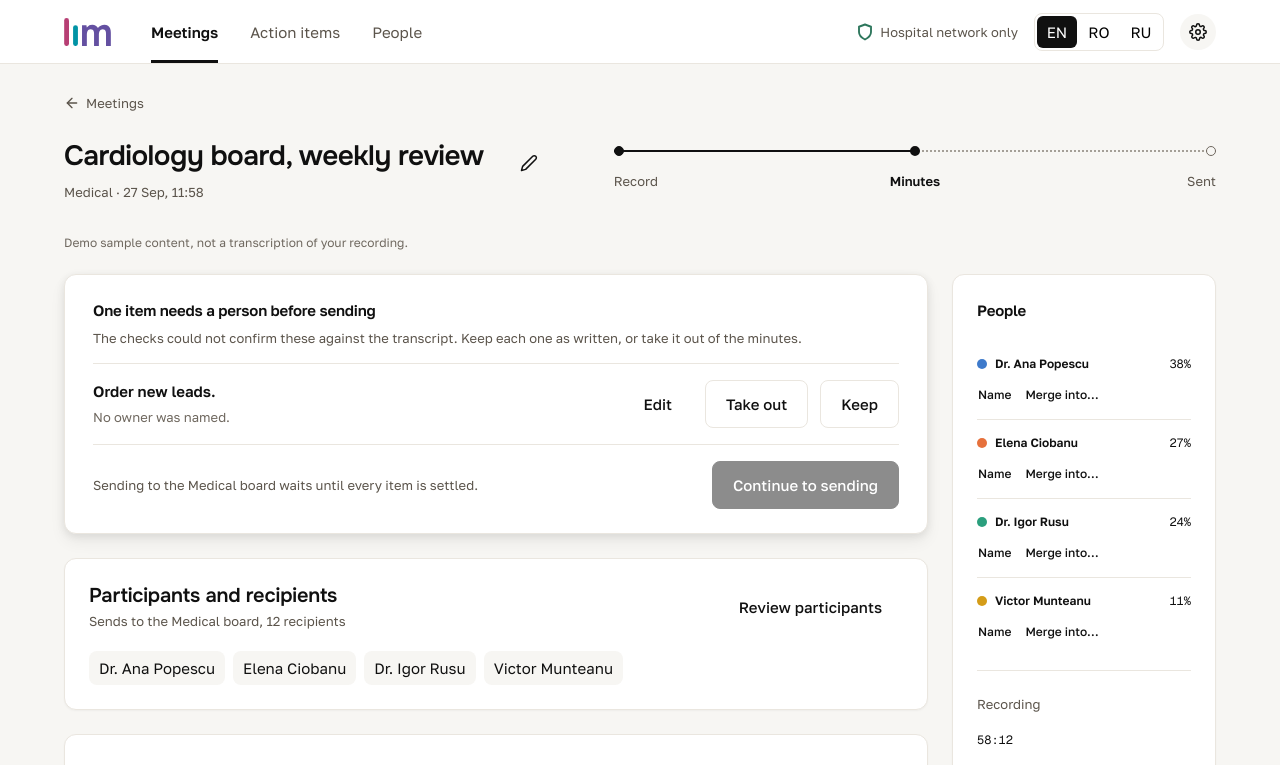
the send window after settling flagged items › opens the window instead of sending at once, and stopping it leaves Send now
This screenshot has width=1280, height=765.
Step 1. Click the button with aria-label "Keep: Order new leads." → (860, 404), box [820,380,899,428]
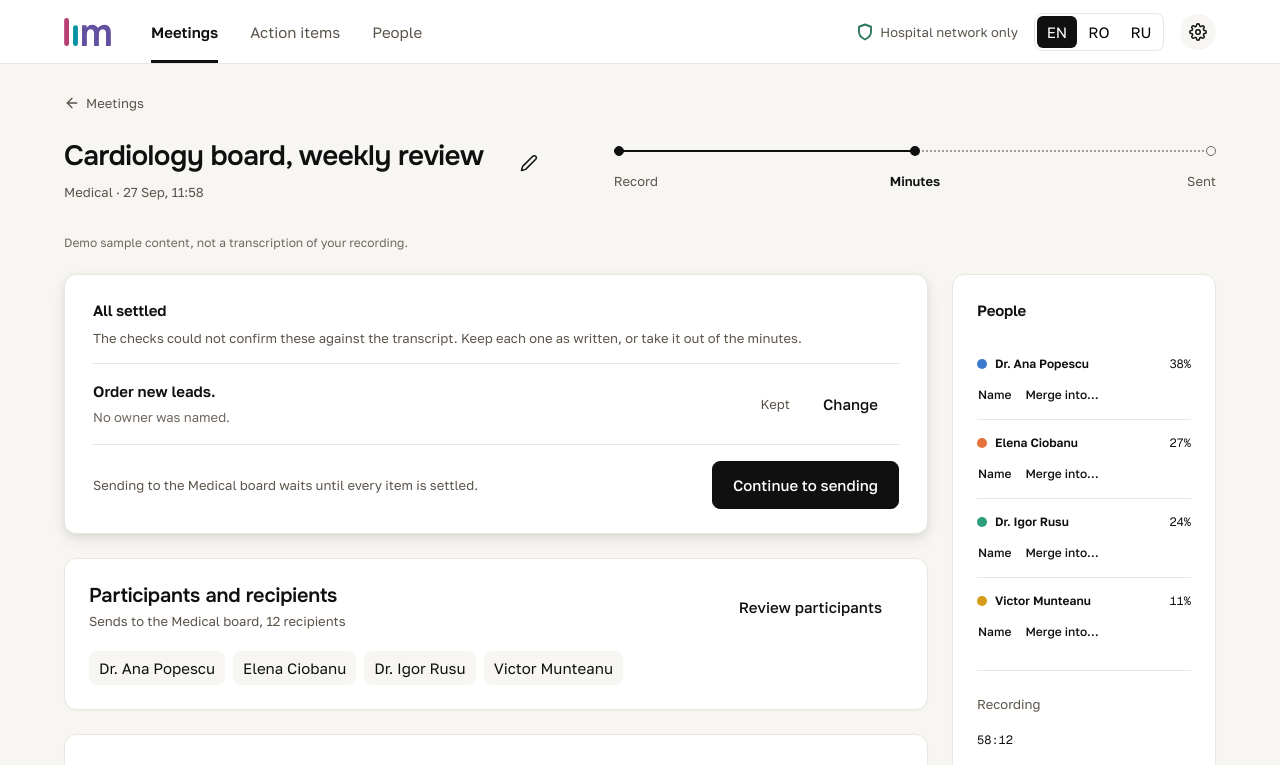
Step 2. Click the button "Continue to sending" → (805, 485), box [712,461,899,509]
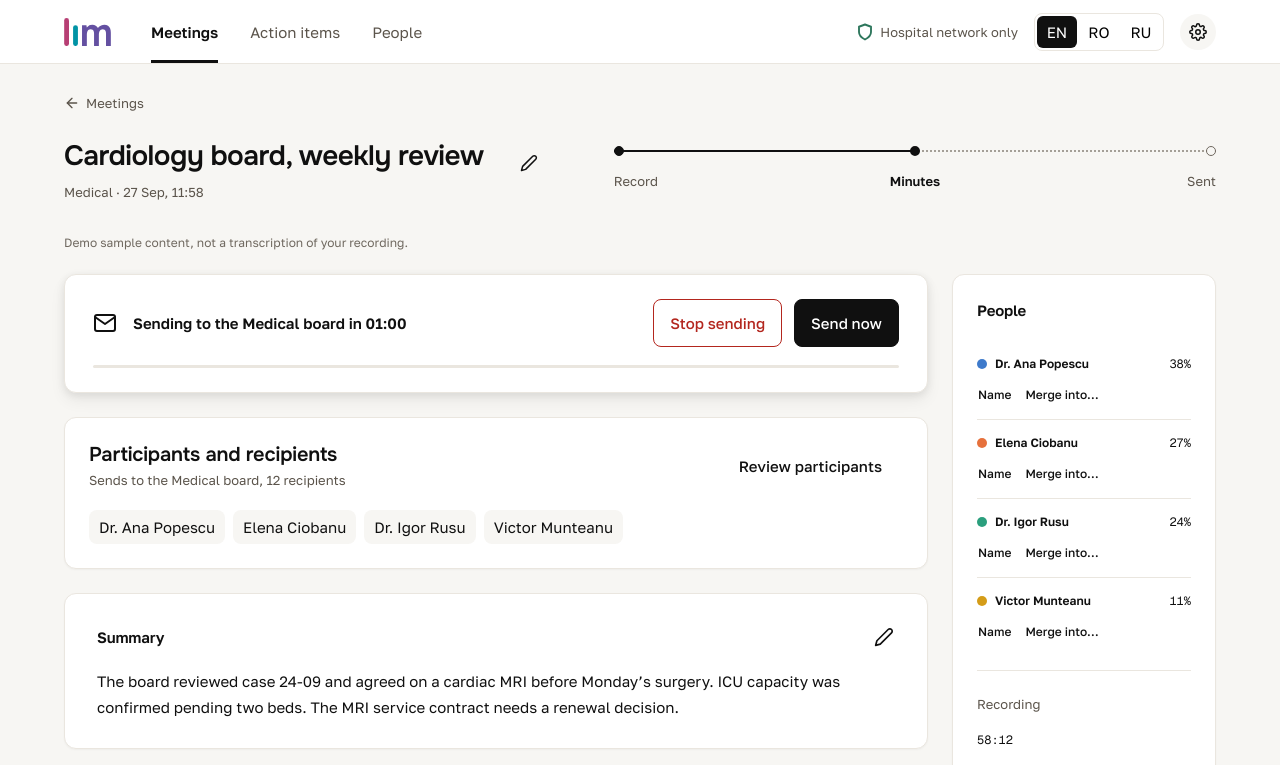
Now the text "Sending to the Medical board in 01:00" is shown, box [133,314,406,332]
Step 3. Click the button "Stop sending" → (718, 323), box [653,299,782,347]
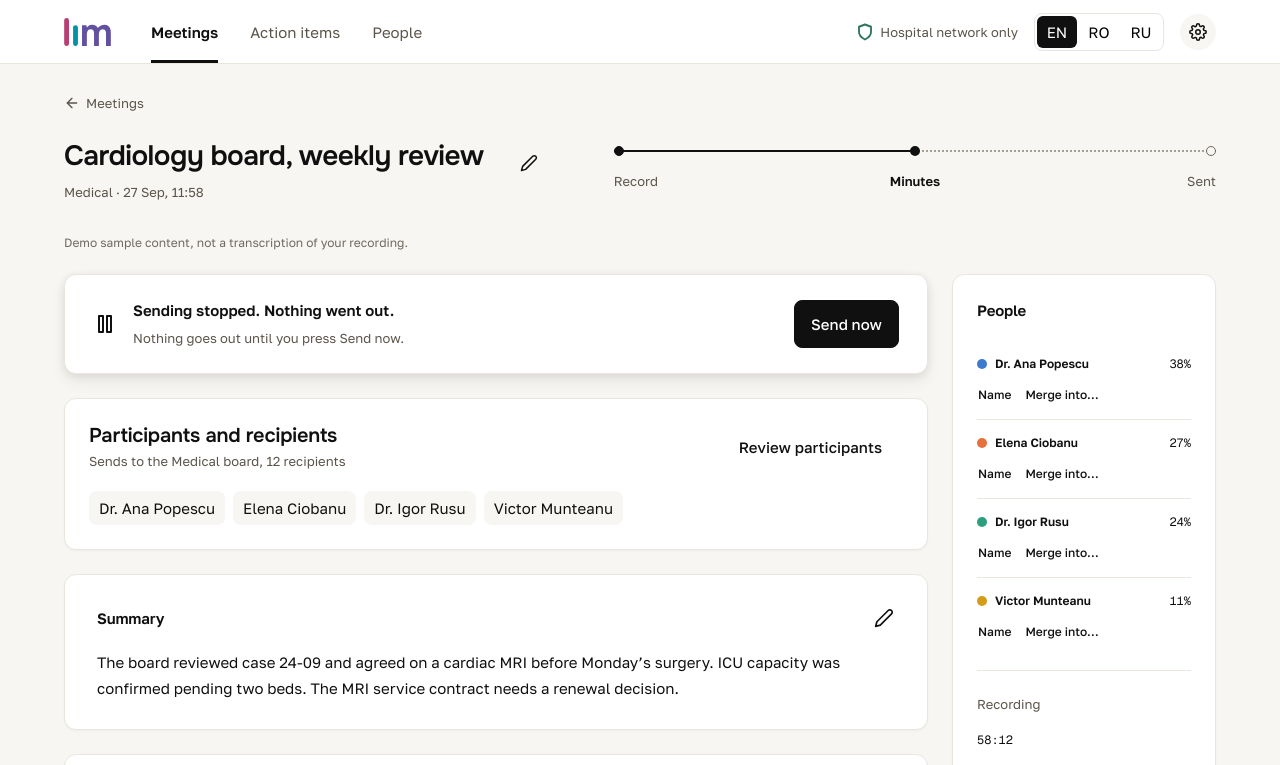
Now the button "Send now" is shown, box [794,300,899,348]
Now the text "Sending stopped. Nothing went out." is shown, box [133,301,394,319]
